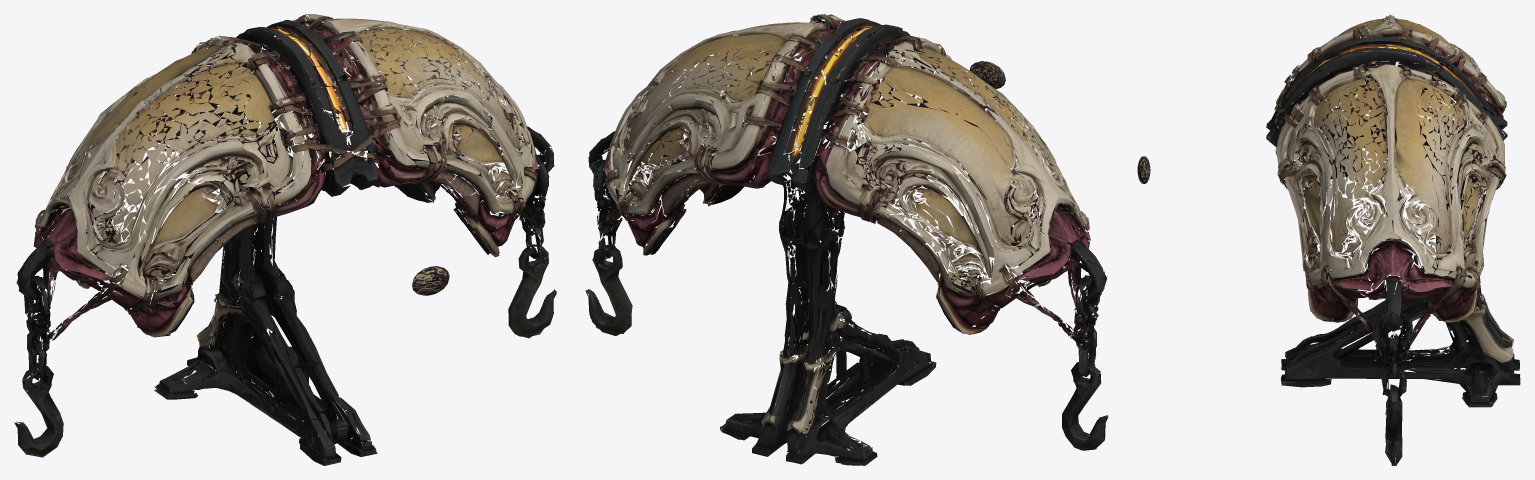
The model's file is rhun_gift_load_bearing_yoke.glb.
3 renders of one model, left to right at view 1: azimuth 30°, elevation 25°; view 2: azimuth 150°, elevation 25°; view 3: azimuth 270°, elevation 25°, orthographic. The views are drawn at different scales.
Visible parts, largest first — view 1: node_0, HB_PULSE_00; view 2: node_0, HB_PULSE_00; view 3: node_0.
Part boxes in pixels (x1,y1,x2,y2): node_0: [14, 14, 556, 465]; HB_PULSE_00: [412, 266, 449, 295]; node_0: [585, 14, 1108, 465]; HB_PULSE_00: [969, 61, 1005, 88]; node_0: [1266, 14, 1520, 465].
Bounding box in the file's own units: 1.05 × 0.7221 × 0.7516.
1 material, 1 textured.
